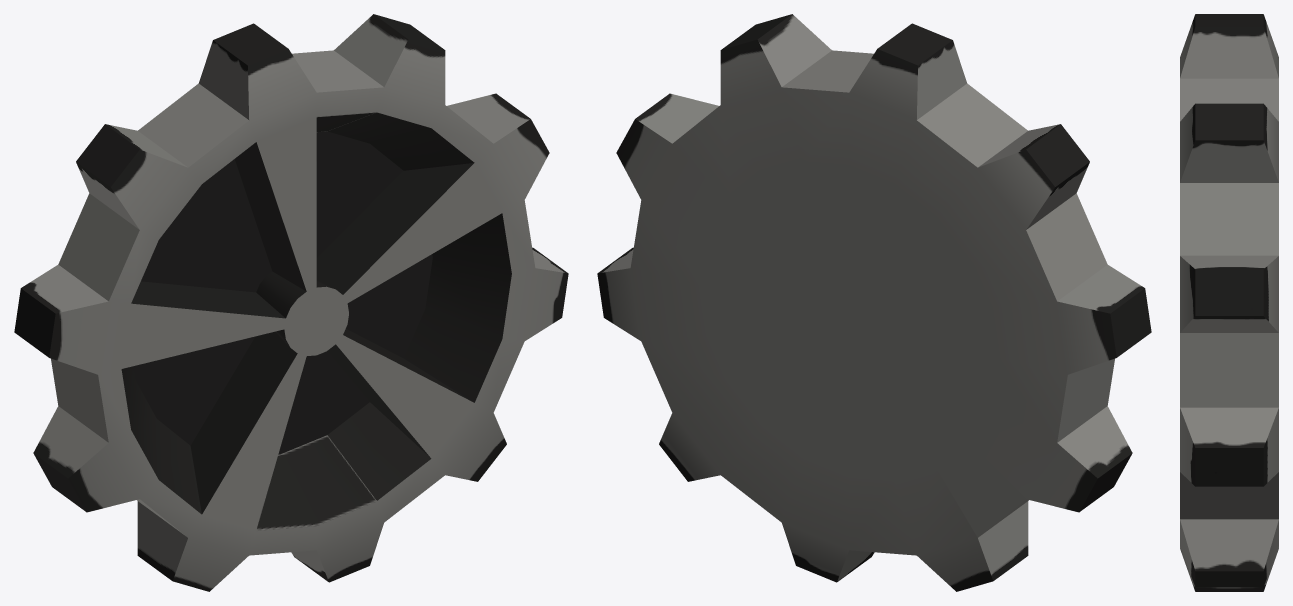
Rendered from Small Gear.fbx.
The picture shows the model from 3 angles, left to right: view 1: azimuth 30°, elevation 25°; view 2: azimuth 150°, elevation 25°; view 3: azimuth 270°, elevation 25°; orthographic projection. The views are drawn at different scales.
Parts seen in each view (by area): view 1: Small_Gear; view 2: Small_Gear; view 3: Small_Gear.
Boxes of the visible parts, left/top/right/bottom form: Small_Gear: left=14, top=14, right=568, bottom=591; Small_Gear: left=597, top=14, right=1151, bottom=591; Small_Gear: left=1180, top=14, right=1278, bottom=591.
Bounding box in the file's own units: 1.19 × 1.19 × 0.2.
